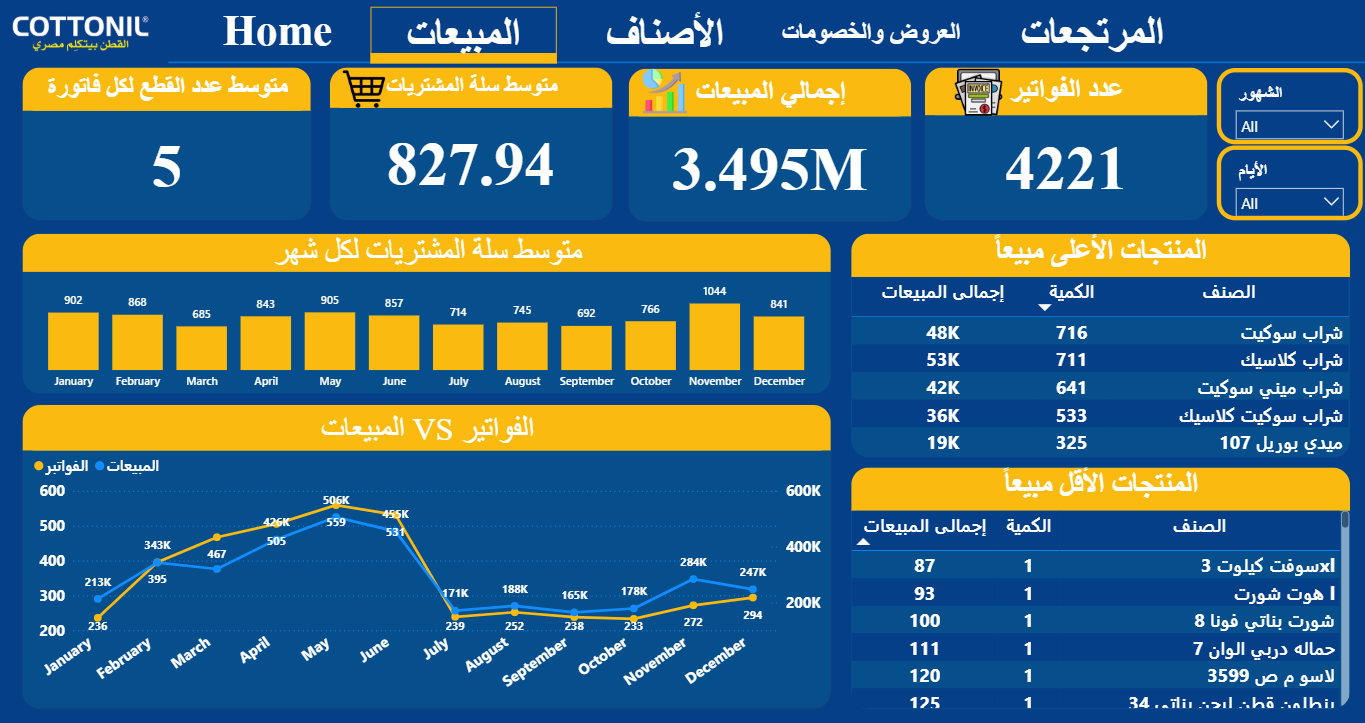

This screenshot's page, from the dashboard's own definition file:
{"tool":"powerbi","page":{"name":"المبيعات","canvas":[1500,800],"ordinal":1},"visuals":[{"type":"shape","box":[0,69.5,1499.7,12.3],"z":0},{"type":"card","title":"عدد الفواتير","fields":{"Values":["المبيعات.Total Invoices"]},"box":[1016.3,80.4,309.5,167.7],"z":1000},{"type":"image","box":[1046.3,82.2,58.6,53.2],"z":2000},{"type":"card","title":"إجمالي المبيعات","fields":{"Values":["المبيعات.Total Sales"]},"box":[693.2,81.8,309.5,167.7],"z":3000},{"type":"image","box":[708.2,81.4,50.4,50.4],"z":4000},{"type":"card","title":"متوسط سلة المشتريات","fields":{"Values":["المبيعات.Avg Basket Per Customer_Proxy"]},"box":[366.2,80.4,309.5,167.7],"z":5000},{"type":"card","title":"متوسط عدد القطع لكل فاتورة","fields":{"Values":["المبيعات.Avg Items Per Invoice"]},"box":[31.4,80.4,316.3,167.7],"z":6000},{"type":"lineChart","title":"المبيعات VS الفواتير","fields":{"Y":["المبيعات.Total Invoices"],"Category":["Calendar.Month Name"],"Y2":["المبيعات.Total Sales"]},"box":[31.4,448.5,883.4,332.7],"z":7000},{"type":"columnChart","title":"متوسط سلة المشتريات لكل شهر","fields":{"Category":["Calendar.Month Name"],"Y":["المبيعات.Avg Basket Per Customer_Proxy"]},"box":[31.4,261.8,883.4,175.9],"z":8000},{"type":"tableEx","title":"المنتجات الأعلى مبيعاً","fields":{"Values":["المبيعات.Total Sales","Sum(المبيعات.الكمية)","المبيعات.الصنف"]},"box":[935.2,261.8,545.3,245.4],"z":9000},{"type":"tableEx","title":"المنتجات الأقل مبيعاً","fields":{"Values":["المبيعات.Total Sales","Sum(المبيعات.الكمية)","المبيعات.الصنف"]},"box":[935.2,516.7,545.3,264.5],"z":10000},{"type":"image","box":[377.1,80.8,53.2,49.1],"z":11000},{"type":"image","box":[0,0,190.9,81.8],"z":12000},{"type":"slicer","fields":{"Values":["Calendar.Day Name"]},"box":[1334.7,166.3,159.5,81.8],"z":13000},{"type":"slicer","fields":{"Values":["Calendar.Month Name"]},"box":[1334.7,81.8,159.5,83.2],"z":14000},{"type":"shape","box":[411.7,65.4,203.1,10.9],"z":15000},{"type":"actionButton","title":"المبيعات","box":[631.5,14.7,203.1,62.7],"z":16000},{"type":"actionButton","title":"المبيعات","box":[856.4,13.4,203.1,62.7],"z":17000},{"type":"actionButton","title":"المبيعات","box":[1097.8,13.4,203.1,62.7],"z":18000},{"type":"actionButton","title":"المبيعات","box":[412,14.7,203.1,62.7],"z":19000},{"type":"actionButton","title":"المبيعات","box":[208.6,9.5,203.1,62.7],"z":20000}]}

Visuals, with their boxes in screenshot pixels (x1, y1, x2, y2), scaled from the page's 1500x800 canvas onto the 1365x723 screenshot:
shape: crop(0, 63, 1364, 74)
"عدد الفواتير" card: crop(925, 73, 1206, 224)
image: crop(952, 74, 1005, 122)
"إجمالي المبيعات" card: crop(631, 74, 912, 225)
image: crop(644, 74, 690, 119)
"متوسط سلة المشتريات" card: crop(333, 73, 615, 224)
"متوسط عدد القطع لكل فاتورة" card: crop(29, 73, 316, 224)
"المبيعات VS الفواتير" lineChart: crop(29, 405, 832, 706)
"متوسط سلة المشتريات لكل شهر" columnChart: crop(29, 237, 832, 396)
"المنتجات الأعلى مبيعاً" tableEx: crop(851, 237, 1347, 458)
"المنتجات الأقل مبيعاً" tableEx: crop(851, 467, 1347, 706)
image: crop(343, 73, 392, 117)
image: crop(0, 0, 174, 74)
slicer - Calendar.Day Name: crop(1215, 150, 1360, 224)
slicer - Calendar.Month Name: crop(1215, 74, 1360, 149)
shape: crop(375, 59, 559, 69)
"المبيعات" actionButton: crop(575, 13, 759, 70)
"المبيعات" actionButton: crop(779, 12, 964, 69)
"المبيعات" actionButton: crop(999, 12, 1184, 69)
"المبيعات" actionButton: crop(375, 13, 560, 70)
"المبيعات" actionButton: crop(190, 9, 375, 65)
